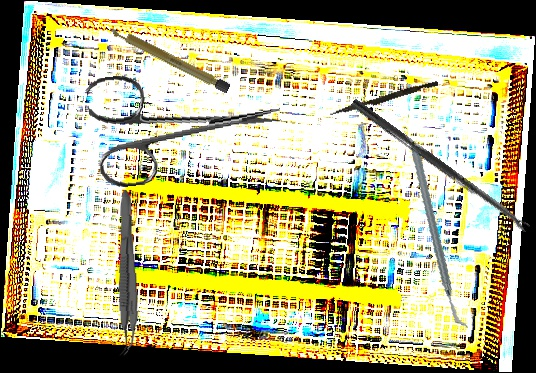Chopper: (381, 146, 498, 328)
Iris Scissors: (84, 56, 288, 191)
Pusher: (329, 77, 439, 121)
Scalpel Handle: (107, 23, 232, 94)
Surgical Spoon: (349, 98, 531, 234)
Tissue Forceps: (110, 190, 141, 356)
